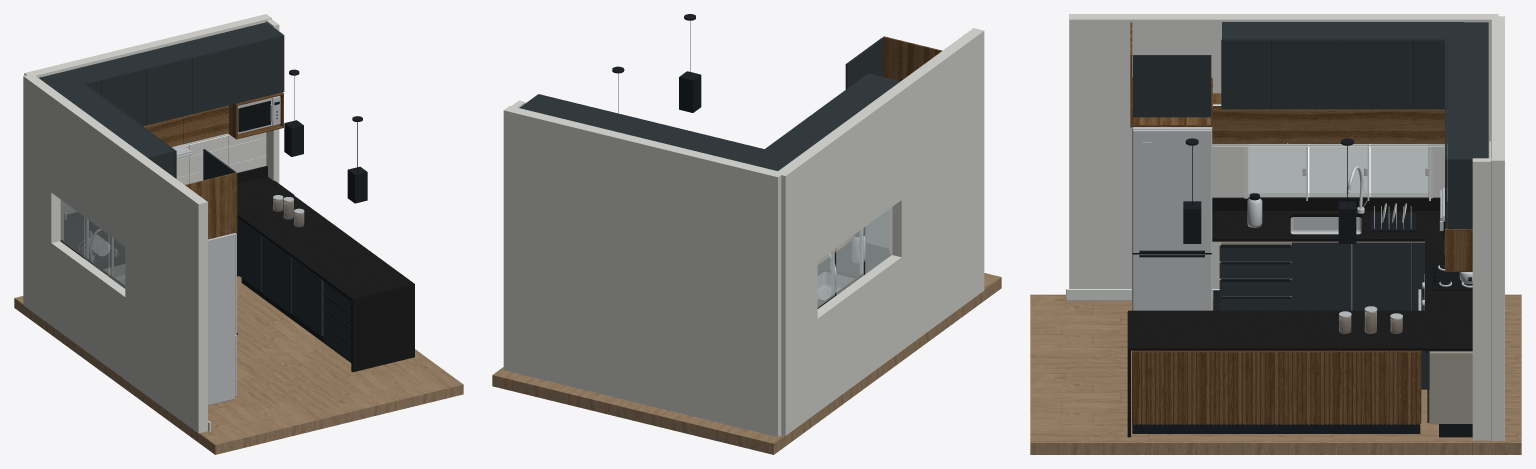
File: cozinha.glb
The picture shows the model from 3 angles, left to right: view 1: azimuth 30°, elevation 25°; view 2: azimuth 150°, elevation 25°; view 3: azimuth 270°, elevation 25°; orthographic projection. The views are drawn at different scales.
Parts seen in each view (by area): view 1: Ombreira junto ao microondas, Fechamento do canto inferior esquerdo, Piso contínuo, Granito • frontão lateral, Janela • fecho, Armário sobre geladeira • lateral, Revestimento posterior, Janela • vidro fosco, Cava gaveteiro pia, Cooktop vidro, Janela • marco vertical; view 2: Ombreira junto ao microondas, Fechamento do canto inferior esquerdo, Piso contínuo, Janela • vidro fosco, Armário sobre geladeira • lateral, Granito • frontão lateral, Janela • fecho, Cava gaveteiro pia; view 3: Fechamento do canto inferior esquerdo, Ombreira junto ao microondas, Armário sobre geladeira • lateral, Piso contínuo, Granito • frontão lateral, Janela • fecho, Nicho vinho • fundo, Janela • vidro fosco, Cava gaveteiro pia, Caixaria esquerda, Janela • marco vertical, Cooktop vidro (+3 smaller).
Part boxes in pixels (x1=…): Ombreira junto ao microondas: x1=23, y1=14, x2=279, y2=433; Fechamento do canto inferior esquerdo: x1=39, y1=22, x2=351, y2=360; Piso contínuo: x1=14, y1=276, x2=463, y2=454; Granito • frontão lateral: x1=60, y1=166, x2=414, y2=372; Janela • fecho: x1=64, y1=96, x2=304, y2=405; Armário sobre geladeira • lateral: x1=143, y1=92, x2=283, y2=239; Revestimento posterior: x1=64, y1=132, x2=266, y2=213; Janela • vidro fosco: x1=60, y1=199, x2=125, y2=288; Cava gaveteiro pia: x1=77, y1=69, x2=367, y2=362; Cooktop vidro: x1=83, y1=100, x2=279, y2=231; Janela • marco vertical: x1=58, y1=198, x2=210, y2=431; Ombreira junto ao microondas: x1=503, y1=28, x2=984, y2=436; Fechamento do canto inferior esquerdo: x1=519, y1=37, x2=900, y2=170; Piso contínuo: x1=492, y1=242, x2=1001, y2=454; Janela • vidro fosco: x1=817, y1=207, x2=892, y2=307; Armário sobre geladeira • lateral: x1=883, y1=36, x2=942, y2=81; Granito • frontão lateral: x1=817, y1=241, x2=891, y2=308; Janela • fecho: x1=818, y1=210, x2=888, y2=299; Cava gaveteiro pia: x1=612, y1=14, x2=821, y2=304; Fechamento do canto inferior esquerdo: x1=1133, y1=22, x2=1488, y2=422; Ombreira junto ao microondas: x1=1069, y1=14, x2=1504, y2=440; Armário sobre geladeira • lateral: x1=1130, y1=22, x2=1472, y2=424; Piso contínuo: x1=1030, y1=294, x2=1521, y2=454; Granito • frontão lateral: x1=1127, y1=197, x2=1472, y2=437; Janela • fecho: x1=1132, y1=103, x2=1472, y2=319; Nicho vinho • fundo: x1=1132, y1=350, x2=1421, y2=423; Janela • vidro fosco: x1=1248, y1=143, x2=1428, y2=197; Cava gaveteiro pia: x1=1132, y1=138, x2=1472, y2=437; Caixaria esquerda: x1=1221, y1=241, x2=1472, y2=423; Janela • marco vertical: x1=1066, y1=144, x2=1432, y2=300; Cooktop vidro: x1=1249, y1=193, x2=1472, y2=310.
Size of the model in its own units: 3.15 by 2.89 by 4.4.
19 materials, 3 textured.
